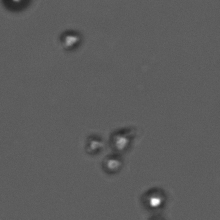Living Cell: (139, 184, 170, 214), (58, 28, 84, 52), (102, 154, 128, 178), (80, 129, 106, 153), (110, 127, 136, 151), (1, 1, 36, 14)
